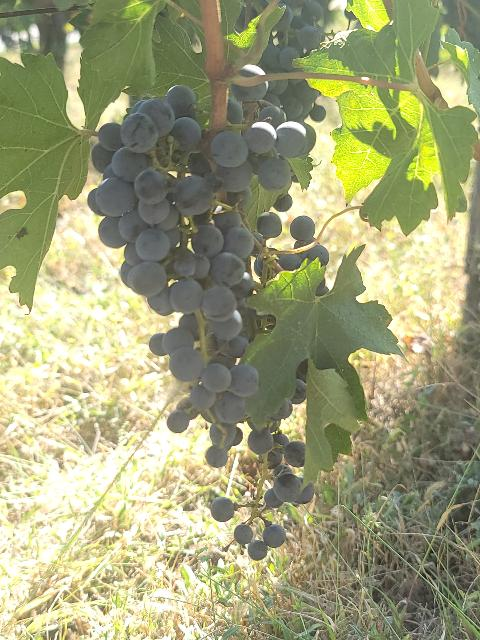grapes: (88, 81, 319, 468)
